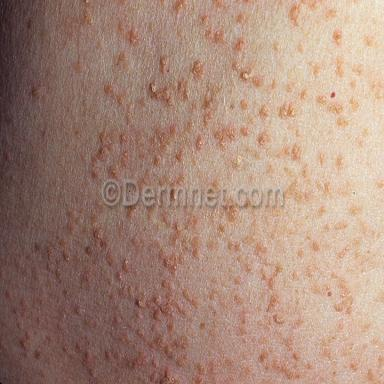Darier_s-Disease: (1, 1, 384, 384)
